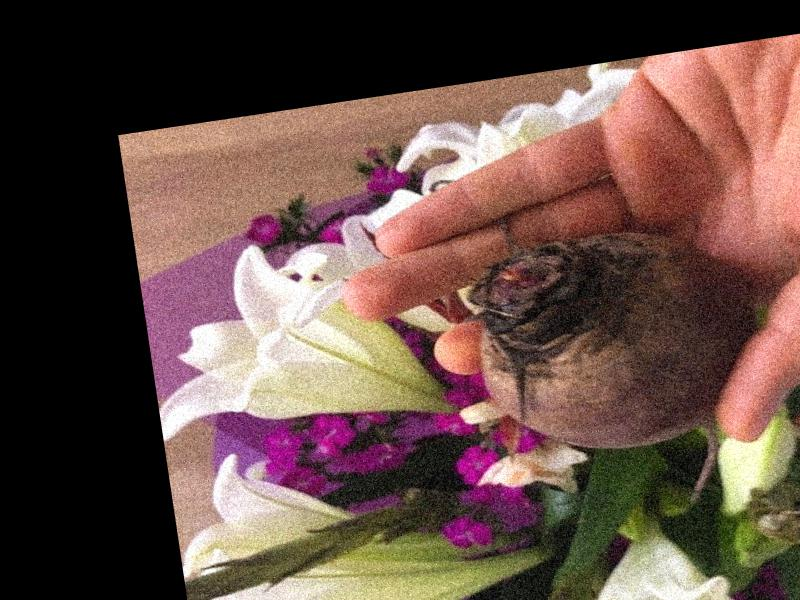Beet: (463, 212, 781, 533)
